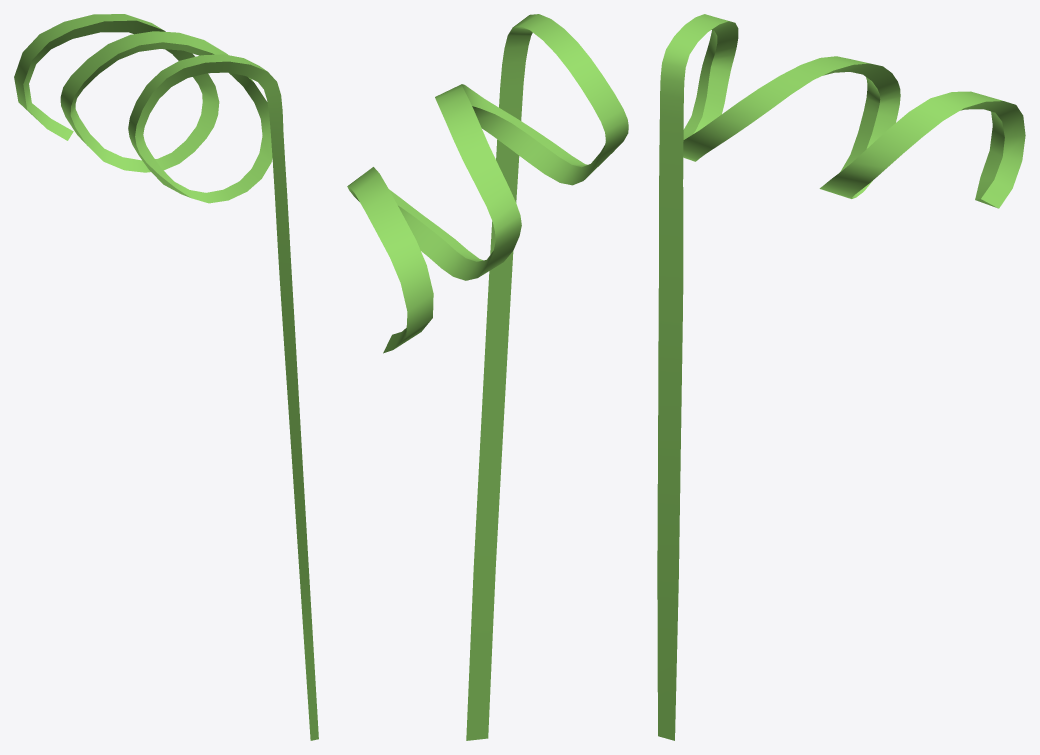
File: lianas_L.fbx
3 renders of one model, left to right at view 1: azimuth 30°, elevation 25°; view 2: azimuth 150°, elevation 25°; view 3: azimuth 270°, elevation 25°, orthographic. The views are drawn at different scales.
Parts seen in each view (by area): view 1: liana_L_thick, liana_L; view 2: liana_L_thick, liana_L; view 3: liana_L, liana_L_thick.
Part boxes in pixels (<box>): liana_L_thick: <box>23,20,318,740</box>; liana_L: <box>14,14,266,197</box>; liana_L_thick: <box>347,26,605,740</box>; liana_L: <box>347,14,628,349</box>; liana_L: <box>657,14,1002,740</box>; liana_L_thick: <box>683,21,1025,208</box>.
Size of the model in its own units: 22.59 by 89.94 by 44.39.
